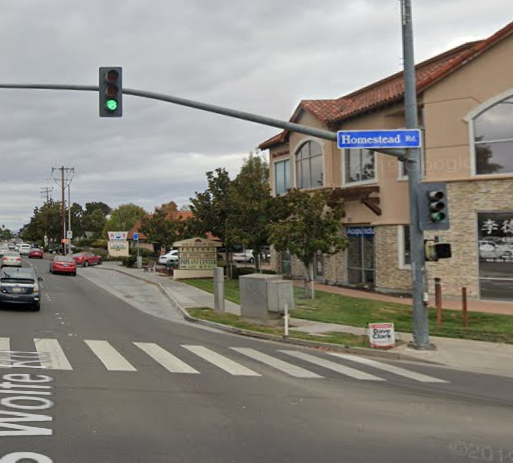green_light: (100, 68, 122, 115)
